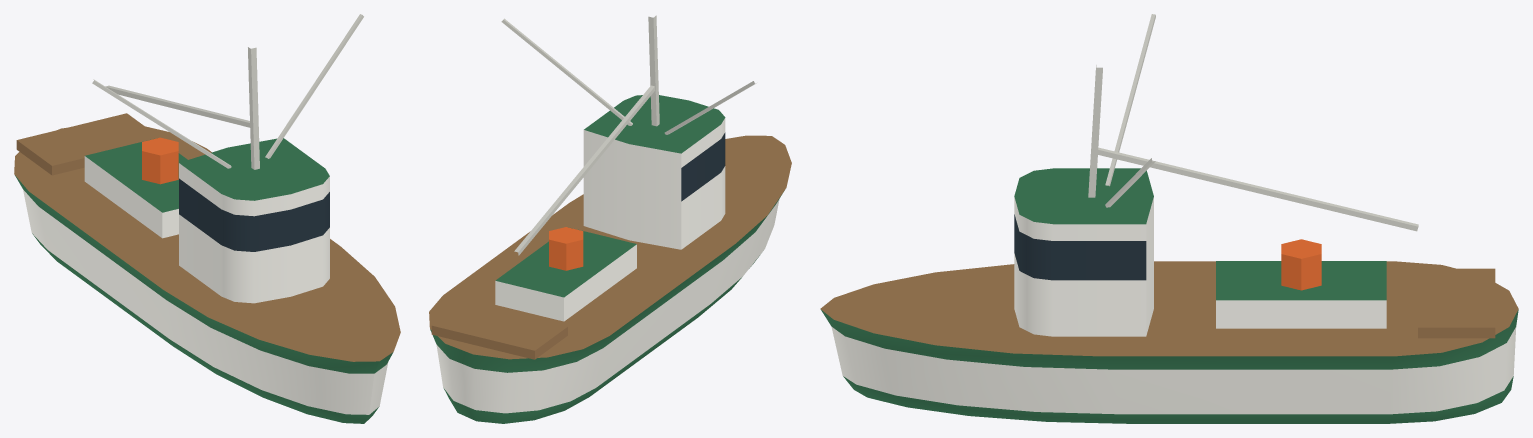
The model's file is sf_fishing_boat.glb.
3 views of the same model, side by side, from view 1: azimuth 30°, elevation 25°; view 2: azimuth 150°, elevation 25°; view 3: azimuth 270°, elevation 25° (orthographic). The views are drawn at different scales.
Parts seen in each view (by area): view 1: sf_fishing_boat; view 2: sf_fishing_boat; view 3: sf_fishing_boat.
Part boxes in pixels (bbox=[...]): sf_fishing_boat: bbox=[14, 14, 400, 423]; sf_fishing_boat: bbox=[429, 15, 791, 423]; sf_fishing_boat: bbox=[820, 14, 1518, 423].
Bounding box in the file's own units: 4.44 × 4.6 × 9.
Materials: 1 (1 with a texture image).
